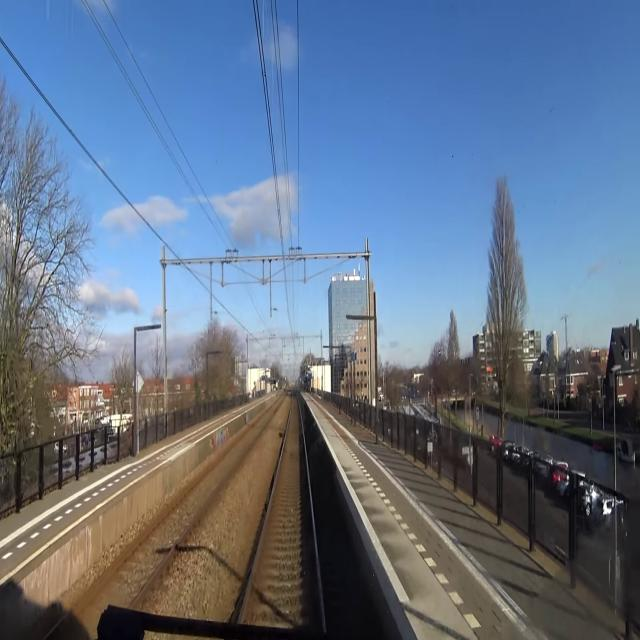rail-track: (51, 408, 272, 639), (243, 395, 321, 629)
